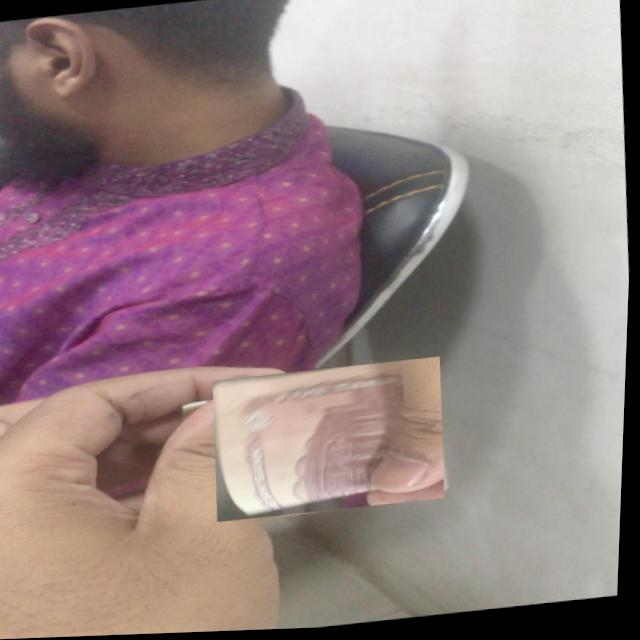Taka: (211, 359, 452, 524)
